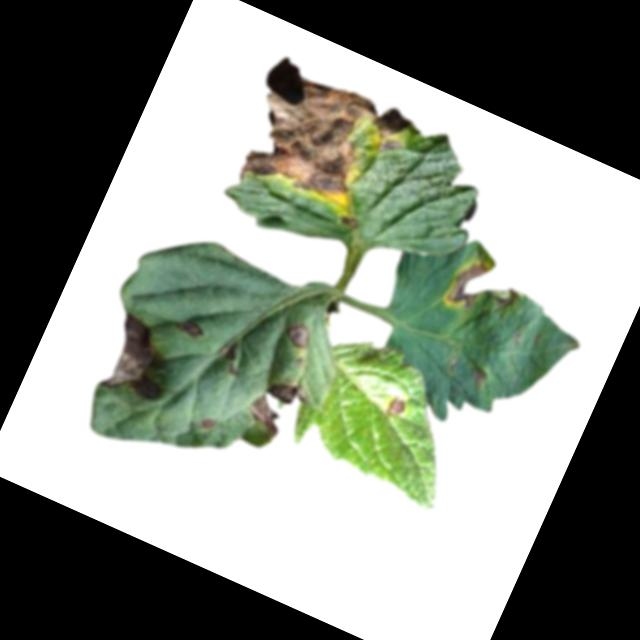Early_blight: (220, 51, 419, 236), (92, 307, 187, 409), (441, 246, 532, 331), (243, 366, 314, 442), (212, 341, 248, 378), (283, 317, 319, 351), (175, 311, 207, 341), (384, 393, 407, 419), (469, 364, 492, 387), (200, 412, 219, 432)
